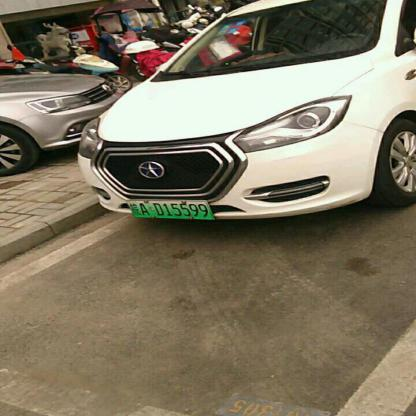lp: (126, 200, 214, 218)
